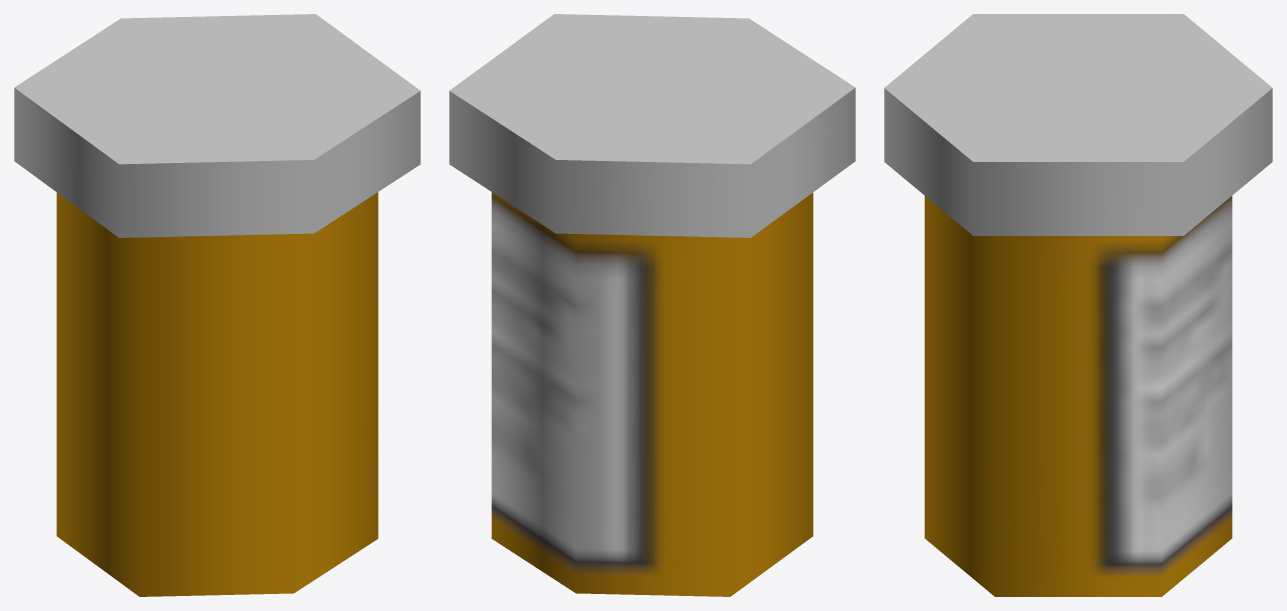
Rendered from PillBottle.fbx.
3 renders of one model, left to right at view 1: azimuth 30°, elevation 25°; view 2: azimuth 150°, elevation 25°; view 3: azimuth 270°, elevation 25°, orthographic.
Visible parts, largest first — view 1: PillBottle; view 2: PillBottle; view 3: PillBottle.
Boxes of the visible parts, x1,y1,x2,y2 form: PillBottle: (14, 14, 420, 596); PillBottle: (449, 14, 855, 596); PillBottle: (884, 14, 1272, 596).
Bounding box in the file's own units: 6.49 × 9.22 × 7.2.
